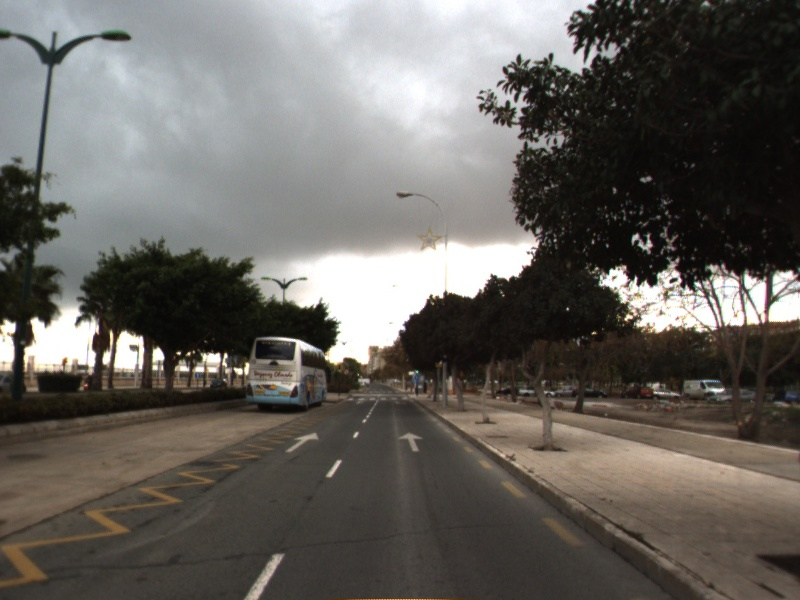STRAIGHT: (283, 430, 321, 455), (396, 430, 426, 454)
